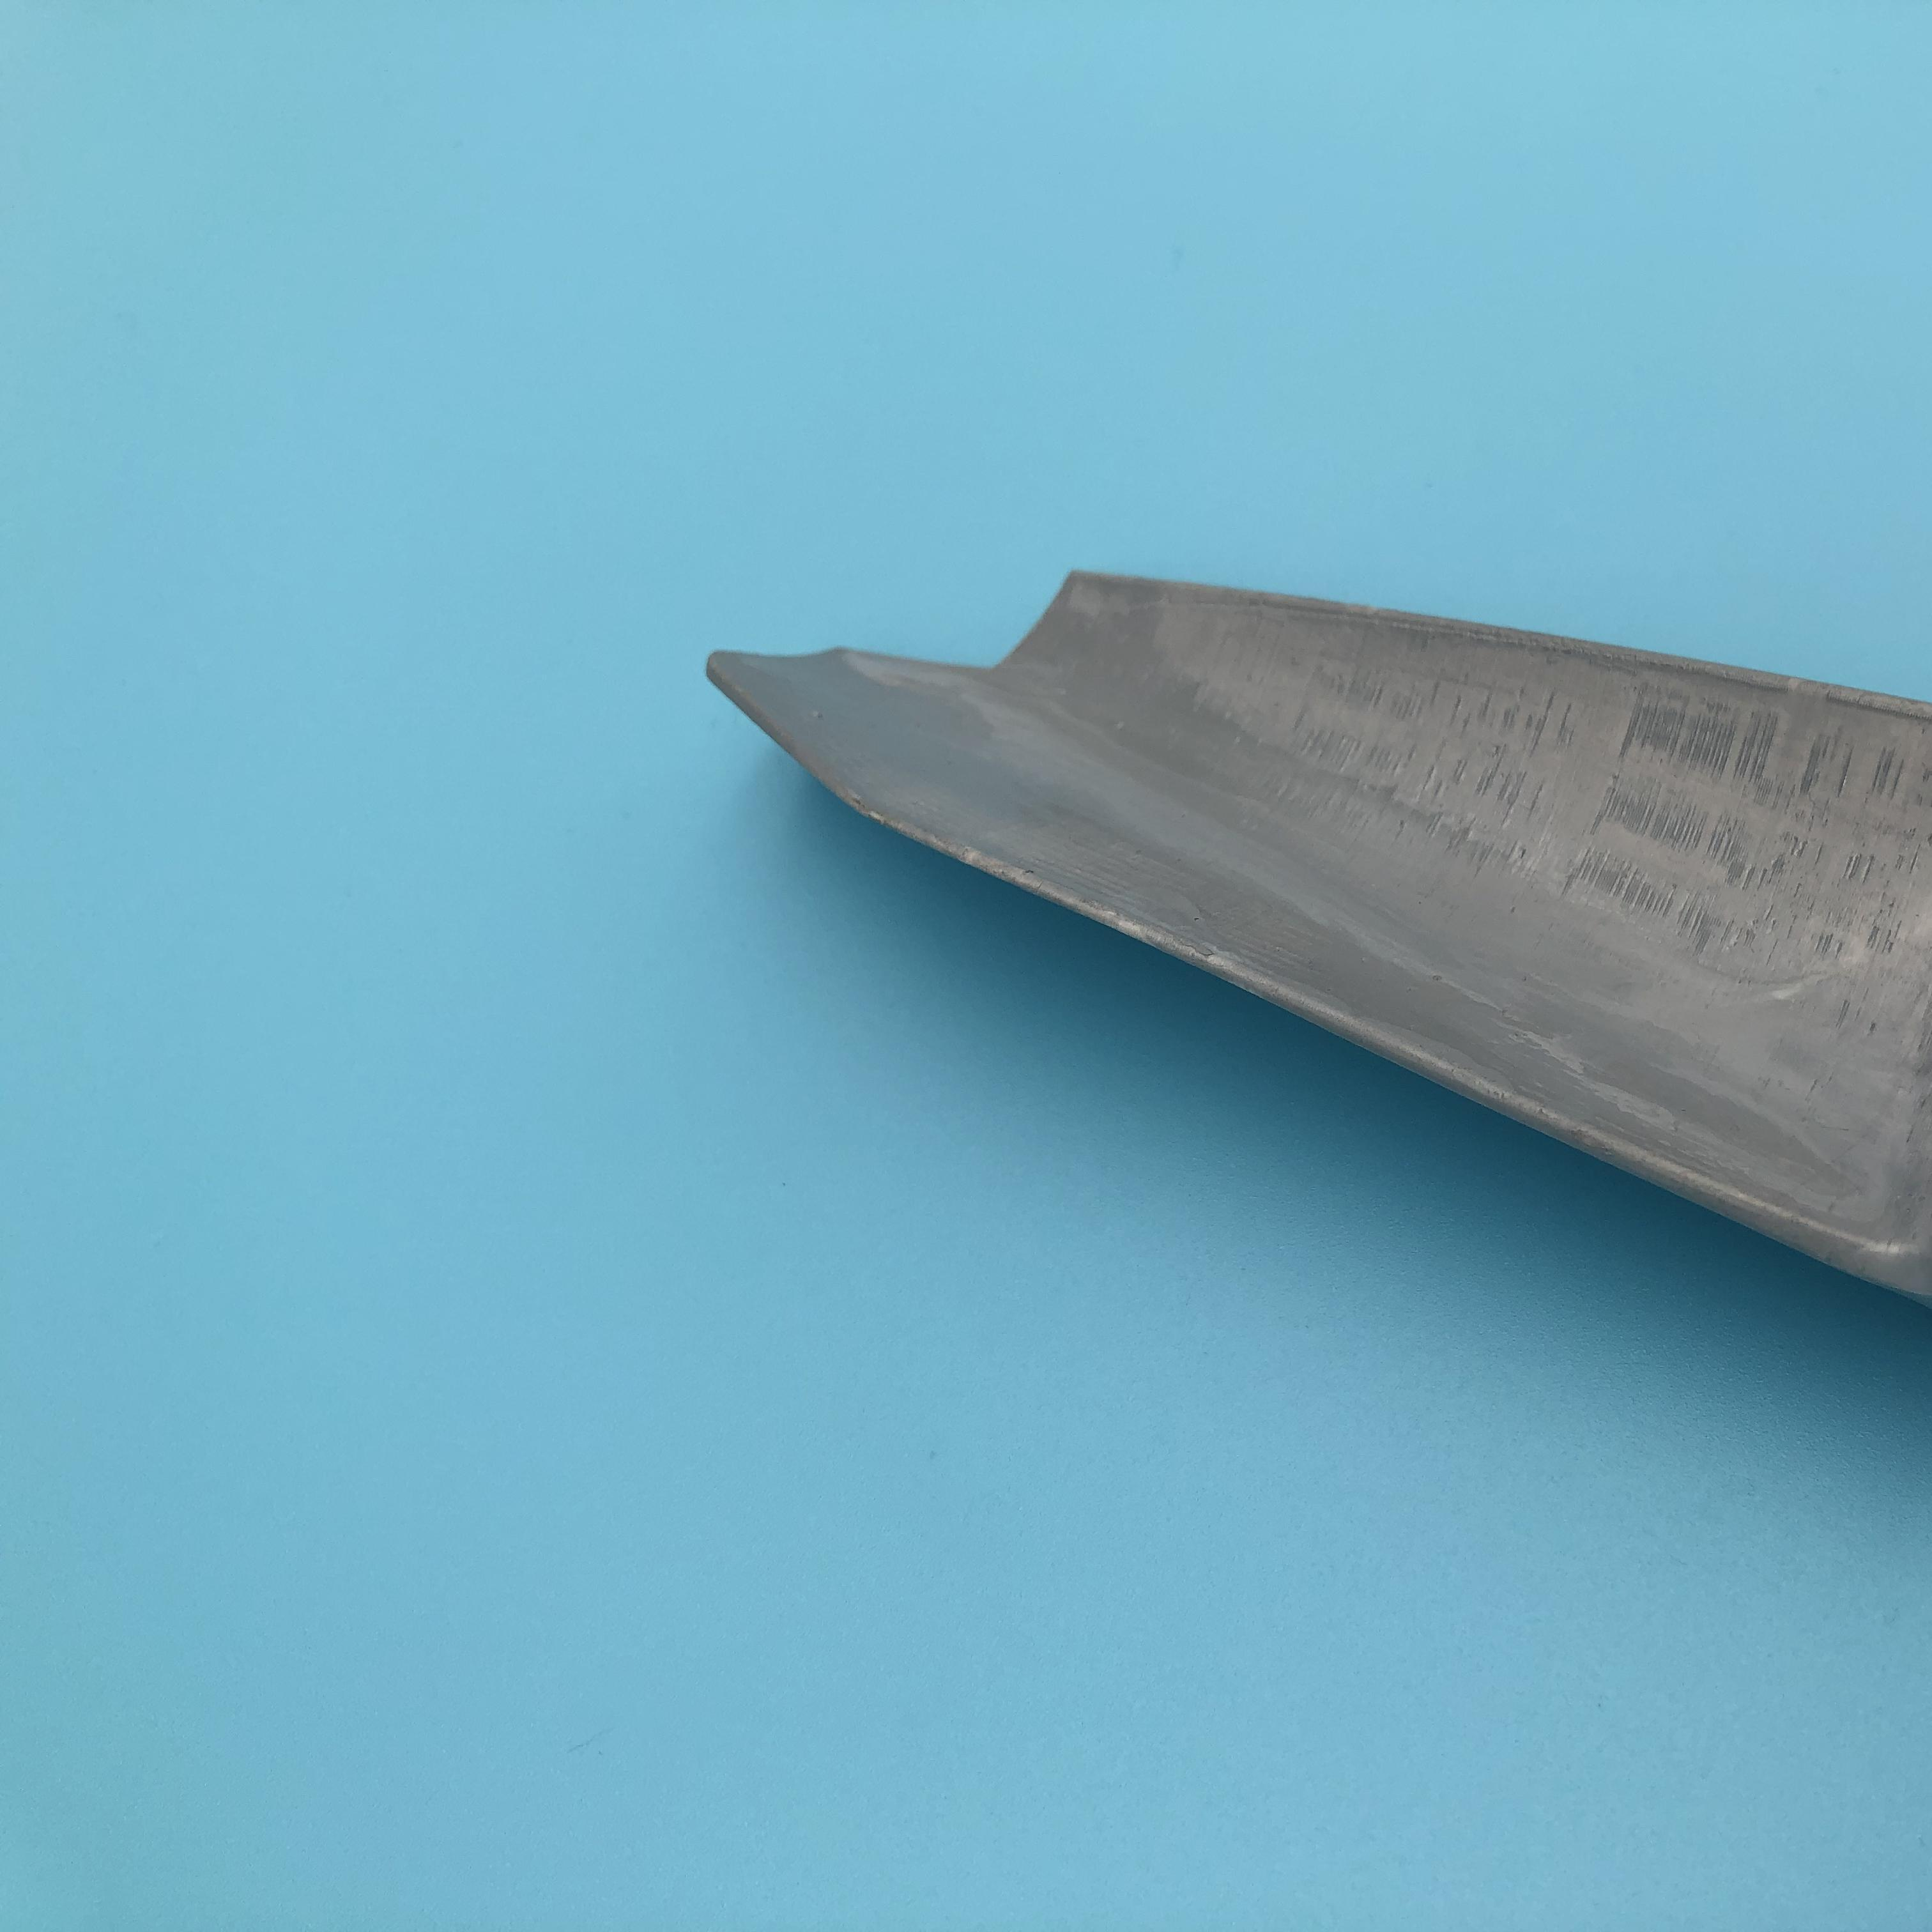fracture: (729, 600, 1162, 713)
